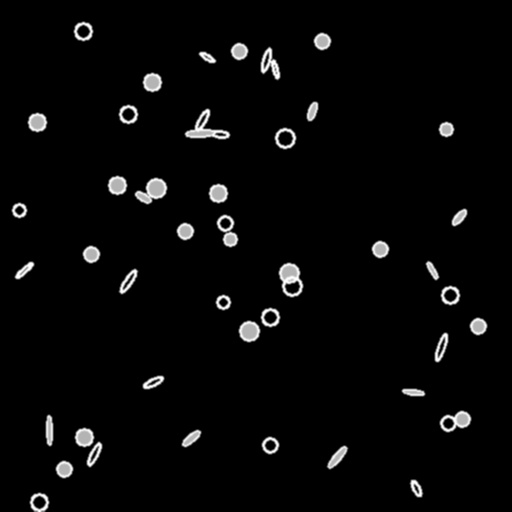pseudomonas: (326, 445, 348, 469), (118, 268, 138, 294), (433, 332, 449, 362), (14, 260, 34, 280), (193, 109, 211, 131), (86, 442, 102, 466), (259, 47, 273, 73), (181, 429, 201, 447), (142, 374, 164, 390), (450, 208, 468, 226), (305, 101, 319, 121), (425, 260, 439, 280), (409, 479, 423, 497), (134, 190, 152, 204), (186, 129, 214, 137), (199, 51, 215, 63), (270, 60, 280, 78), (402, 388, 424, 396), (46, 416, 52, 444), (211, 130, 229, 138)
synechocystis: (280, 264, 298, 282), (240, 322, 258, 340), (147, 179, 165, 197), (276, 129, 294, 147), (283, 277, 301, 295), (144, 74, 160, 90), (210, 185, 226, 201), (75, 23, 91, 39), (120, 106, 136, 122), (262, 309, 278, 325), (76, 429, 92, 445), (29, 114, 45, 130), (31, 494, 47, 510), (442, 287, 458, 303), (109, 177, 125, 193), (455, 412, 469, 426), (232, 44, 246, 58), (471, 319, 485, 333), (218, 216, 232, 230), (263, 438, 277, 452), (441, 416, 455, 430), (84, 247, 98, 261), (373, 242, 387, 256), (178, 224, 192, 238), (315, 34, 329, 48), (57, 462, 71, 476), (224, 233, 236, 245), (217, 296, 229, 308), (440, 123, 452, 135), (13, 204, 25, 216)
